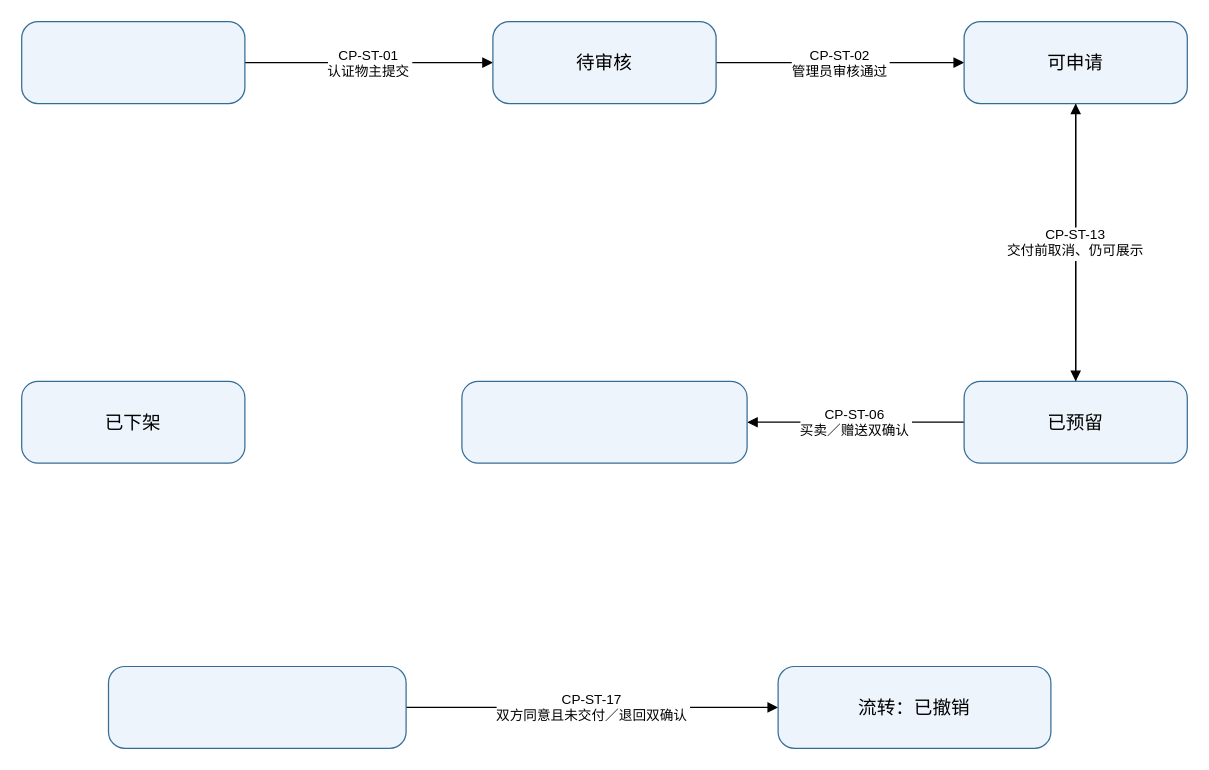
The diagram is 1209 pixels wide and 770 high, and some of its shapes have lost their labels. The shapes that lost their labels are listed below. From the top down, each one's centre as x and y in pixels, then its label:
At (x=132, y=62): "草稿".
At (x=604, y=421): "已成交／赠送完成".
At (x=256, y=706): "流转：撤销协商中".
